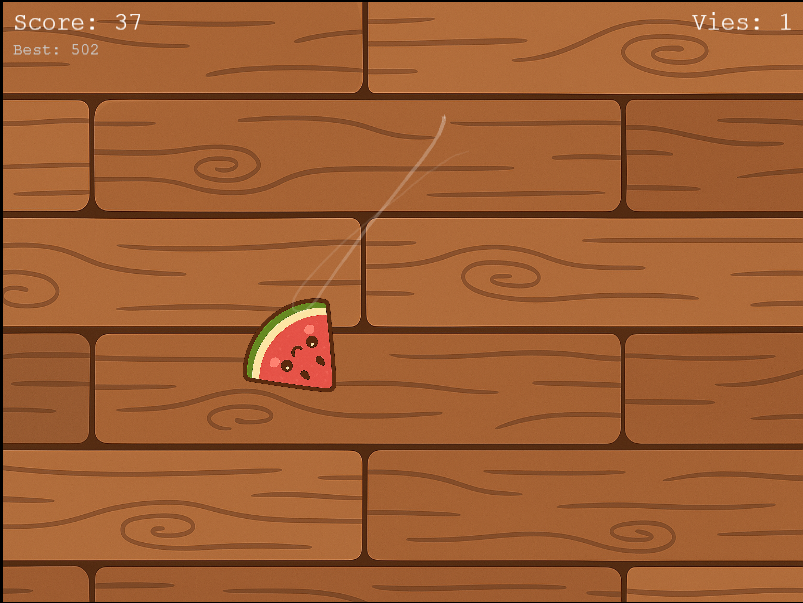fruit: (240, 289, 343, 398)
